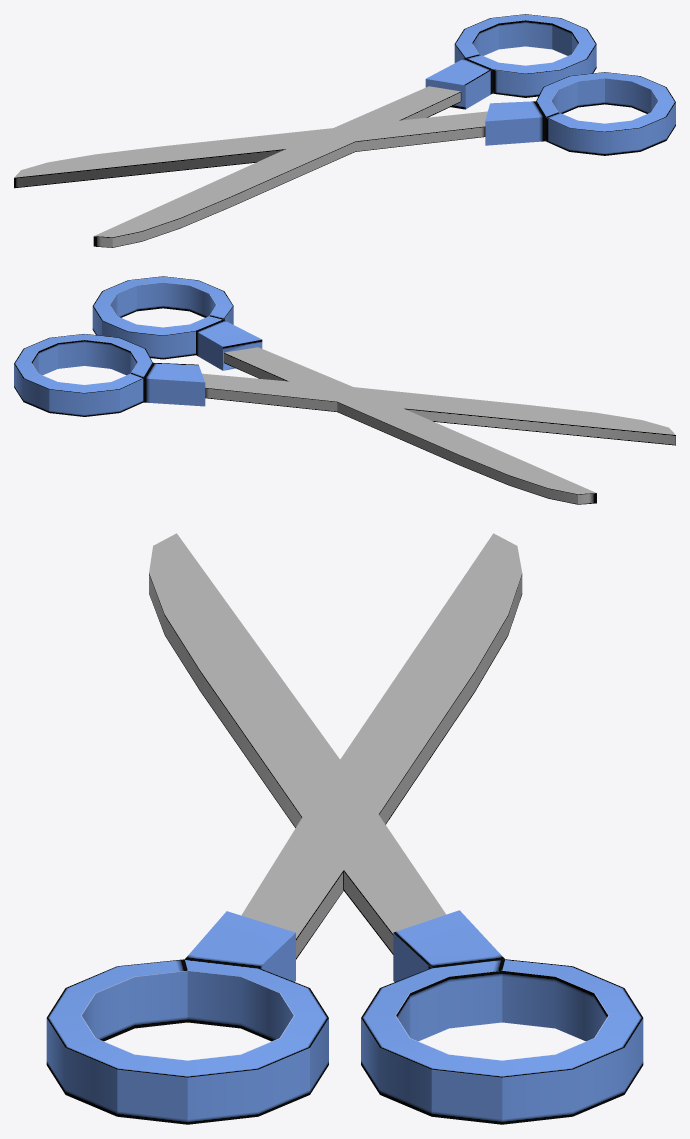
The model's file is Scissors.fbx.
The picture shows the model from 3 angles, top to bottom: view 1: azimuth 30°, elevation 25°; view 2: azimuth 150°, elevation 25°; view 3: azimuth 270°, elevation 25°; orthographic projection. The views are drawn at different scales.
Parts seen in each view (by area): view 1: Scissors; view 2: Scissors; view 3: Scissors.
Part boxes in pixels (<box>): Scissors: <box>14,14,675,247</box>; Scissors: <box>14,276,675,504</box>; Scissors: <box>46,533,643,1124</box>.
Bounding box in the file's own units: 5.98 × 0.2588 × 2.71.
